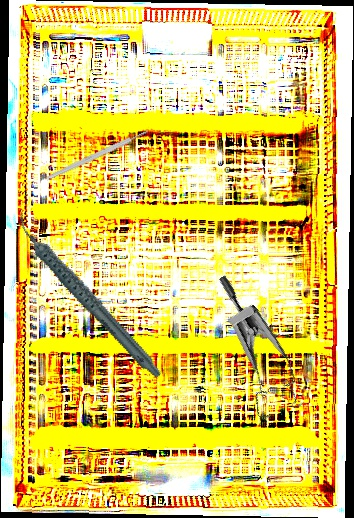Handpiece: (14, 191, 164, 401)
Scalpel Handle: (45, 128, 150, 182)
Speculum: (172, 274, 326, 432)
